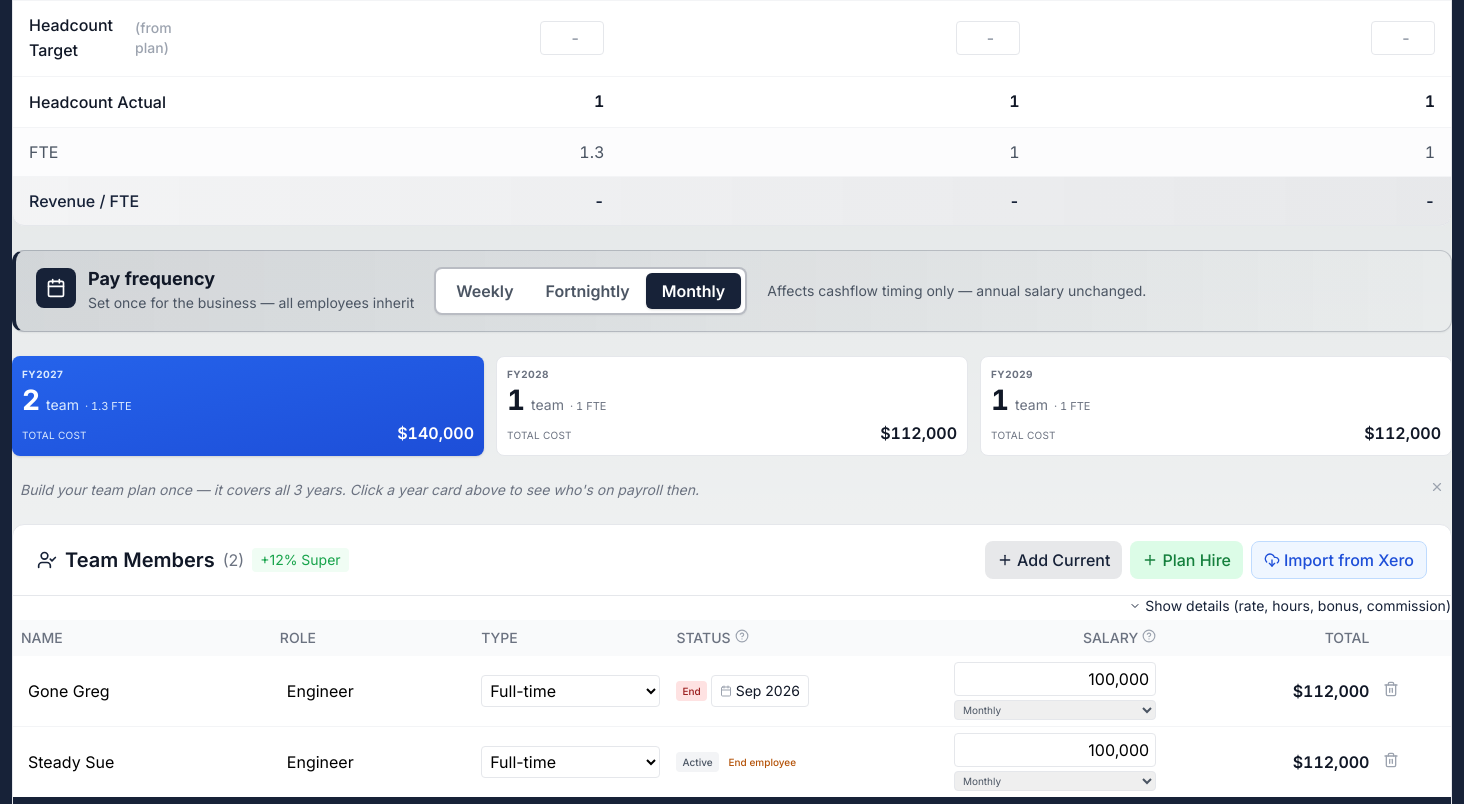
Scenario: Phase 55-01 — UX-S4-04: Step 4 year-card filter › a member who departed BEFORE the selected FY is filtered out
(page scrolled)
Expected: the 2nd field showing "Gone Greg" is shown, 21,674 -> 264,708
Step 1. Click the button with test id "year-card-2" → (548, 404), box 496,356 -> 968,456
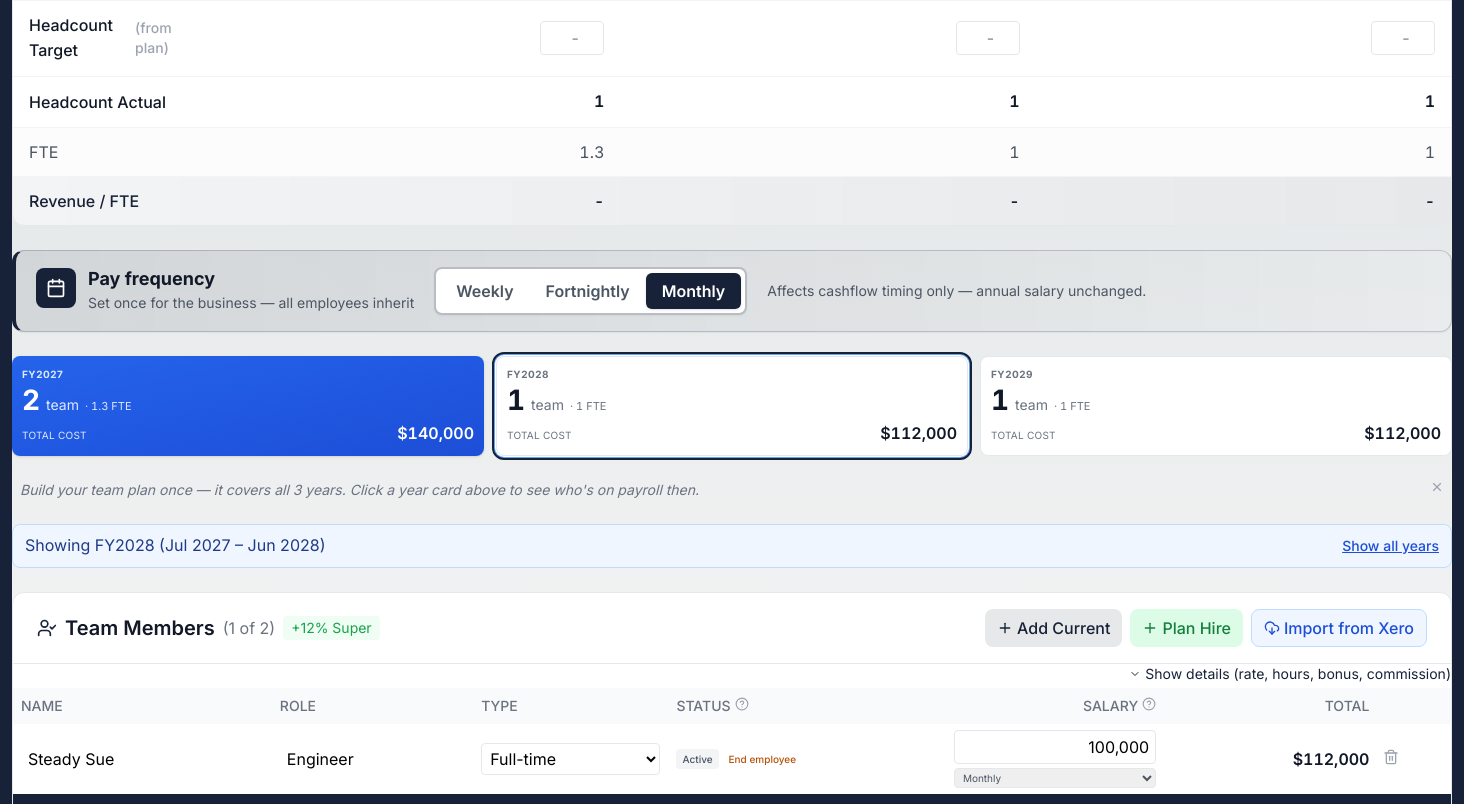
Expected: the field showing "Gone Greg" is not shown
Expected: the 2nd field showing "Steady Sue" is shown, 21,742 -> 264,776
